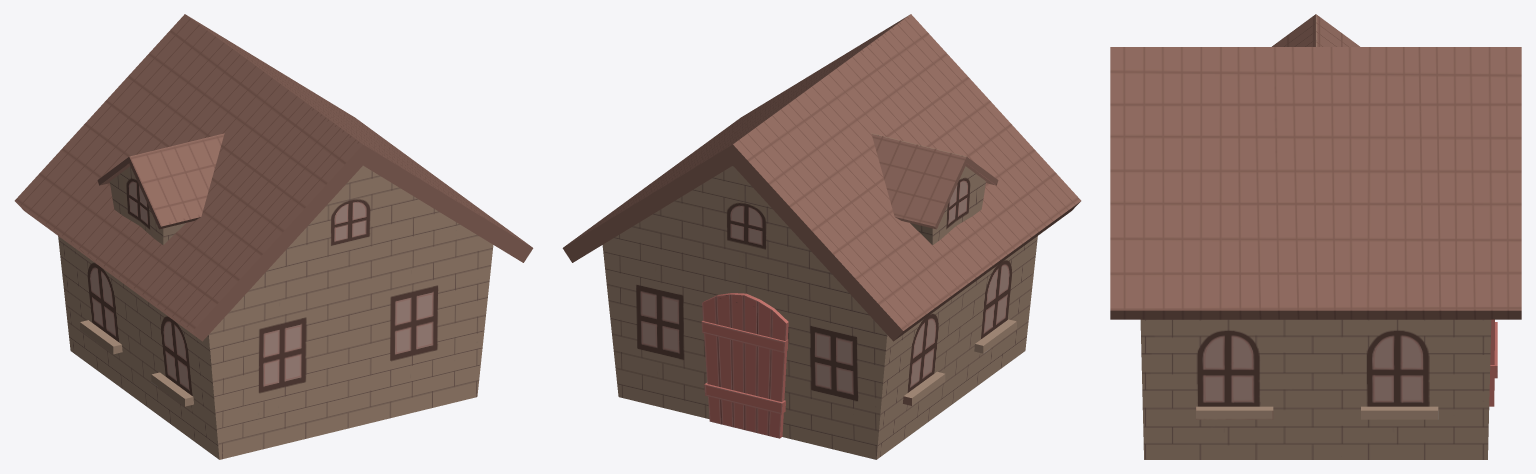
Rendered from 鄉間小屋_1.fbx.
The picture shows the model from 3 angles, left to right: view 1: azimuth 30°, elevation 25°; view 2: azimuth 150°, elevation 25°; view 3: azimuth 270°, elevation 25°; orthographic projection. The views are drawn at different scales.
Visible parts, largest first — view 1: pCube11; view 2: pCube11; view 3: pCube11.
Part boxes in pixels (left/top/right/bottom): pCube11: left=14, top=14, right=533, bottom=459; pCube11: left=562, top=14, right=1081, bottom=459; pCube11: left=1110, top=14, right=1521, bottom=459.
Bounding box in the file's own units: 26.12 × 21.59 × 23.65.
